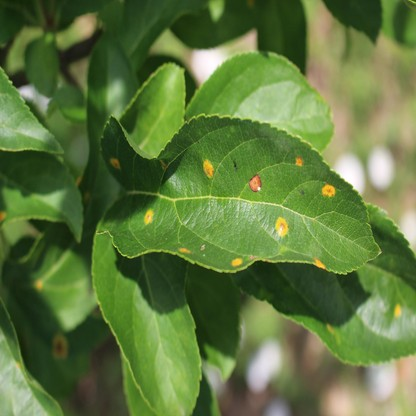rust: (52, 332, 67, 361), (274, 215, 288, 238), (203, 158, 213, 179), (249, 175, 261, 192), (108, 156, 120, 171), (143, 207, 153, 225), (315, 256, 326, 269), (322, 184, 334, 195), (326, 320, 334, 335), (393, 303, 401, 318), (178, 246, 192, 254), (158, 156, 166, 169), (0, 211, 6, 226), (231, 258, 242, 266), (295, 157, 302, 168), (34, 281, 42, 290)
